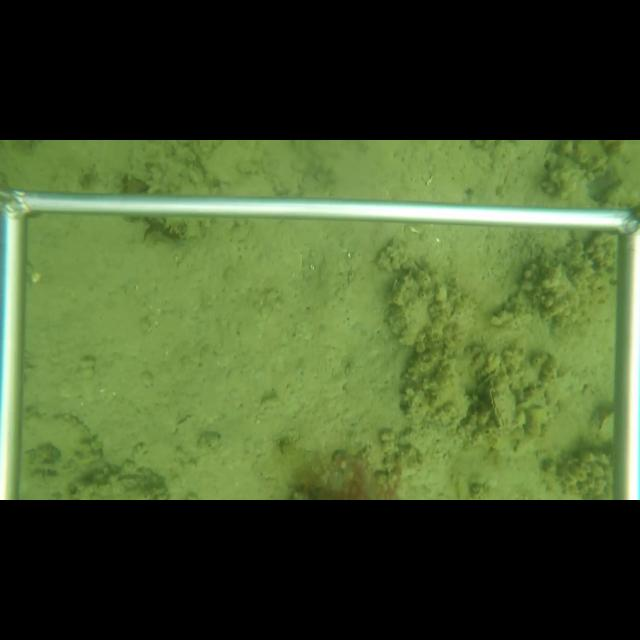Oyster-Closed: (479, 368, 517, 430)
